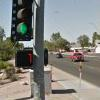Traffic light: (6, 0, 39, 46)
